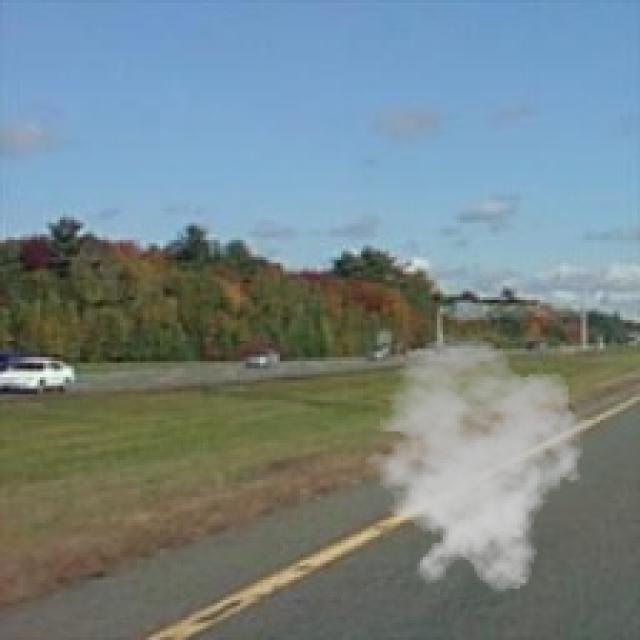Smoke: (352, 334, 597, 594)
